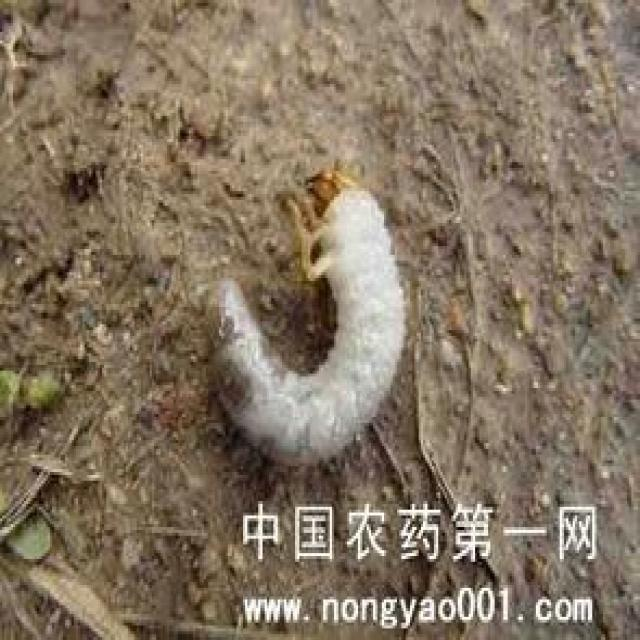grub: (201, 165, 413, 463)
